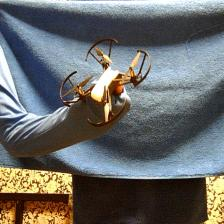drone: (60, 38, 150, 130)
